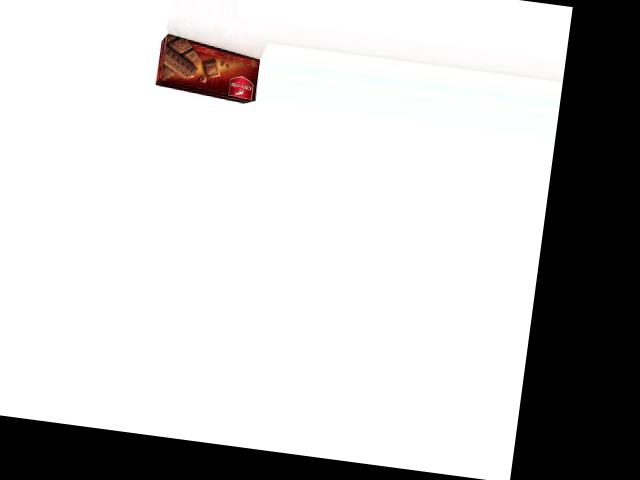chocolate: (156, 31, 263, 105)
